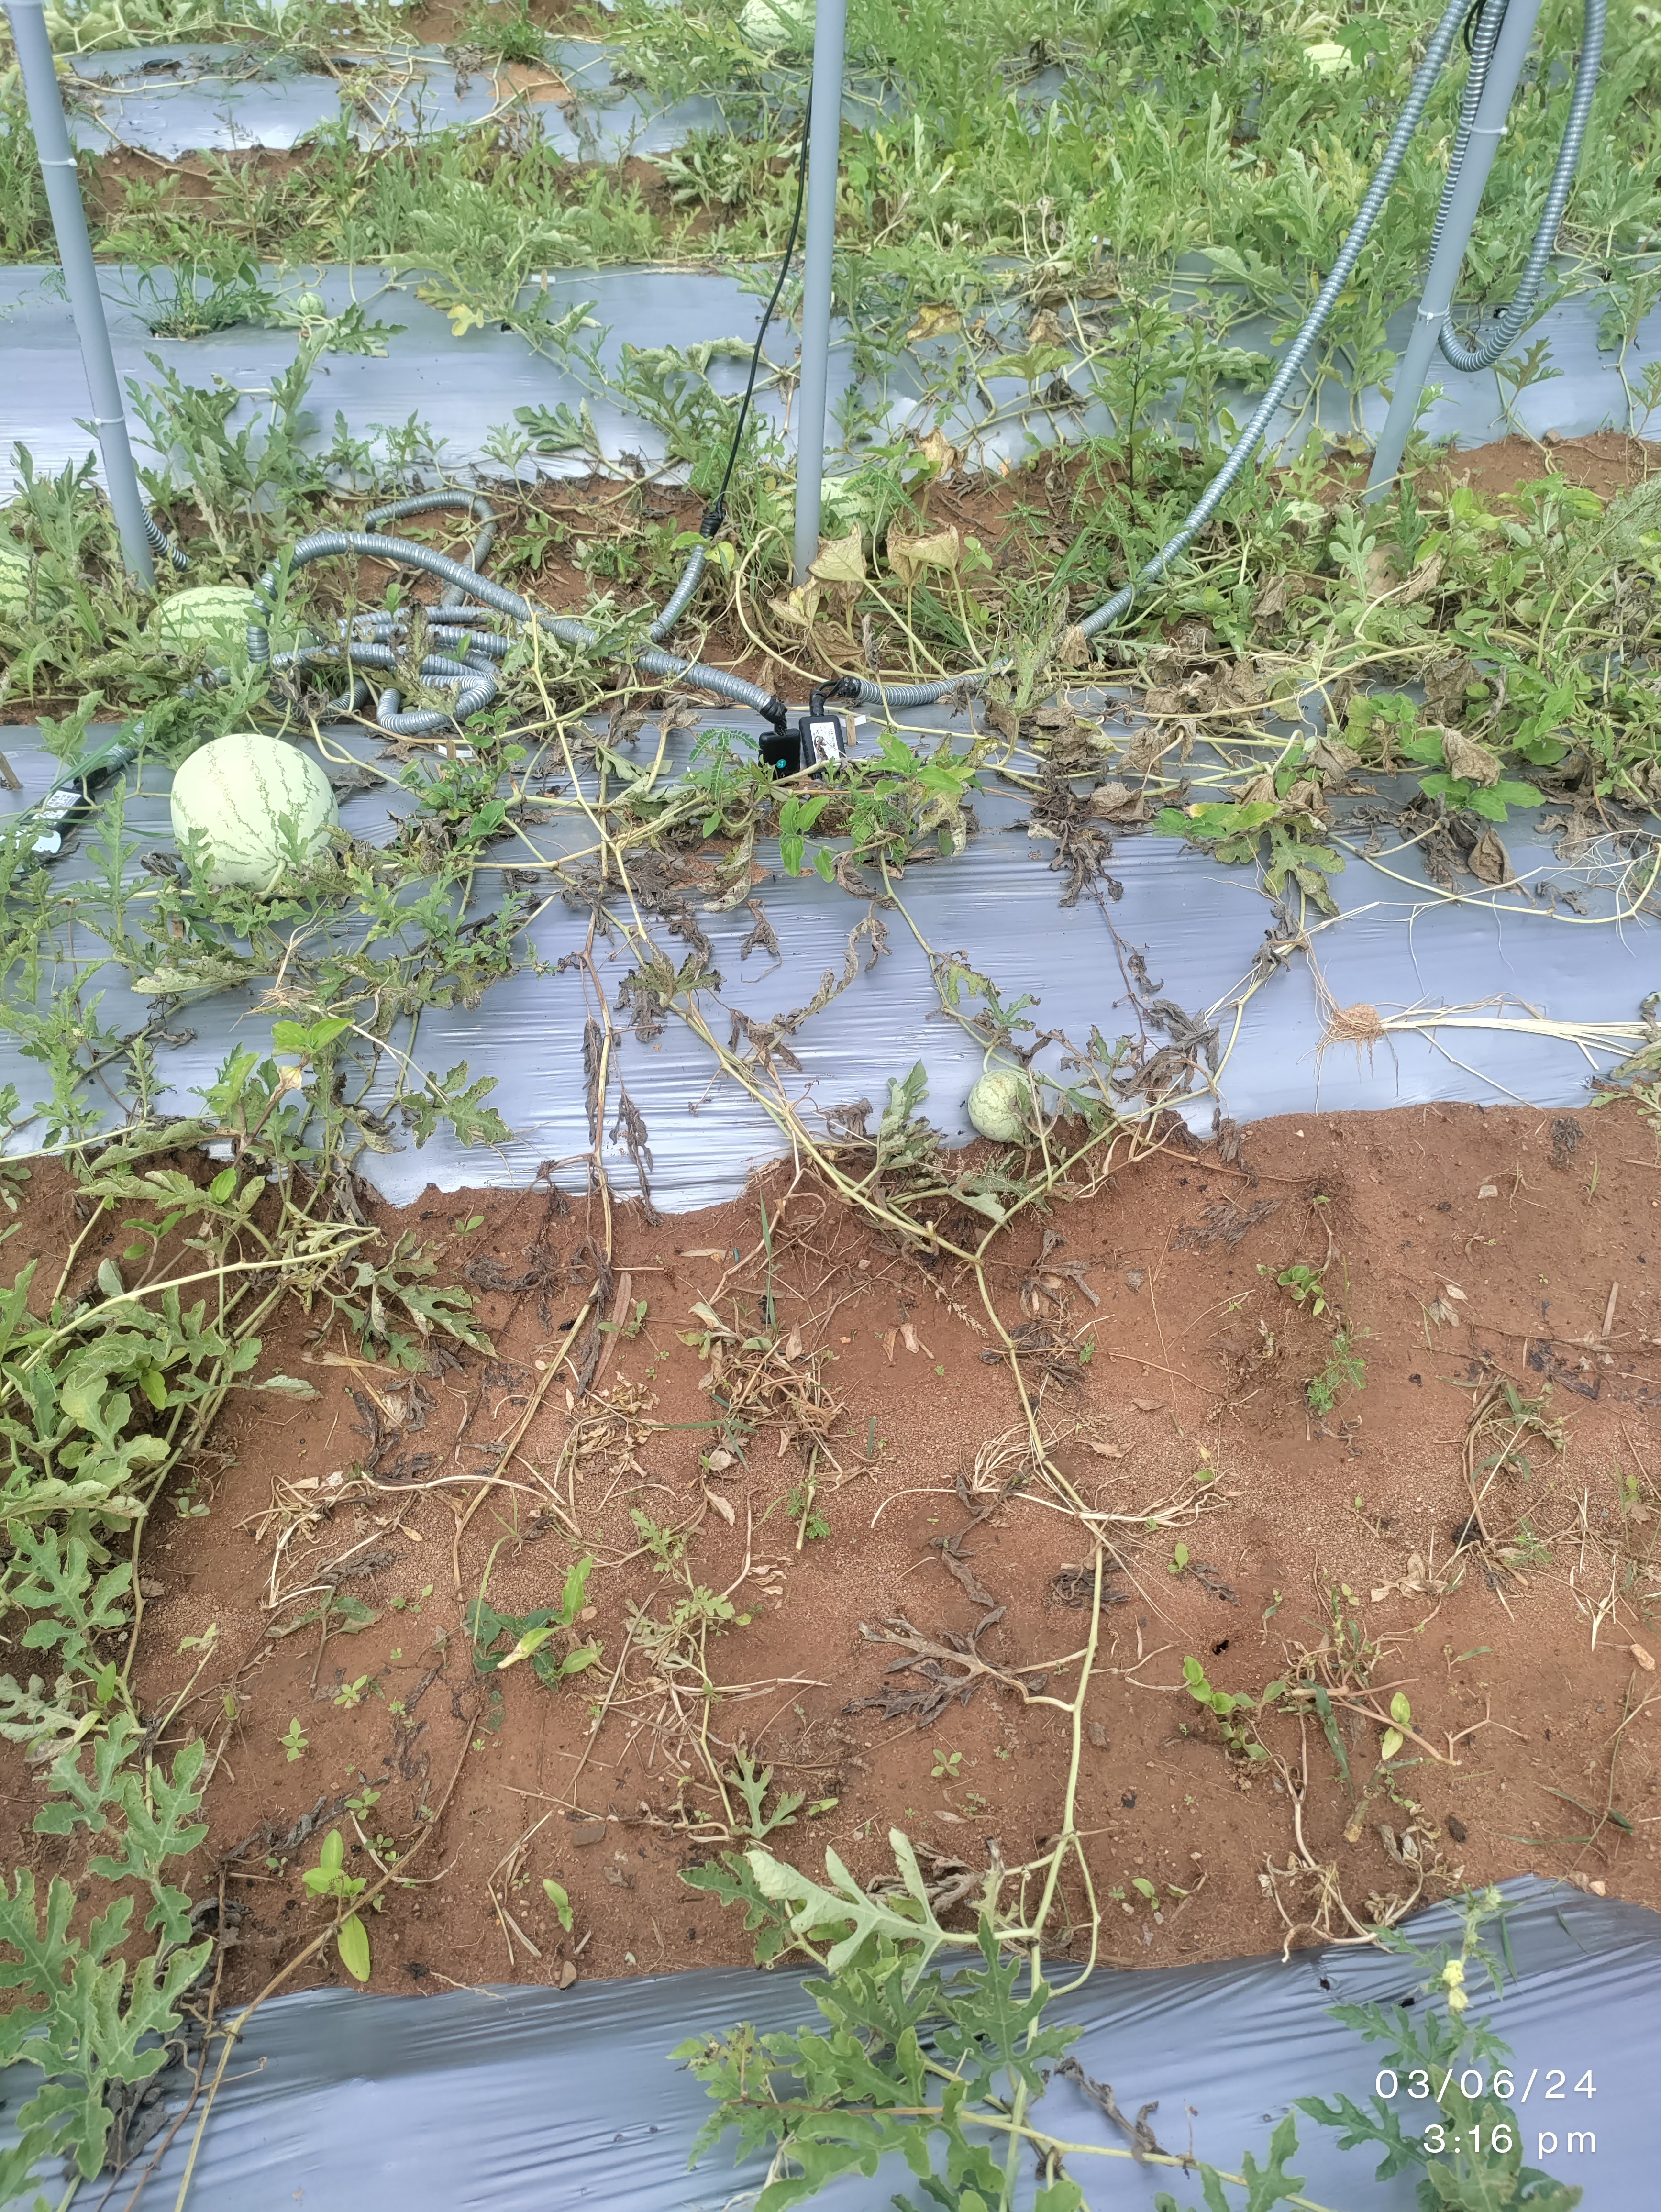not-good-to-harvest: (140, 724, 389, 921), (126, 536, 344, 686), (956, 1043, 1096, 1162)
